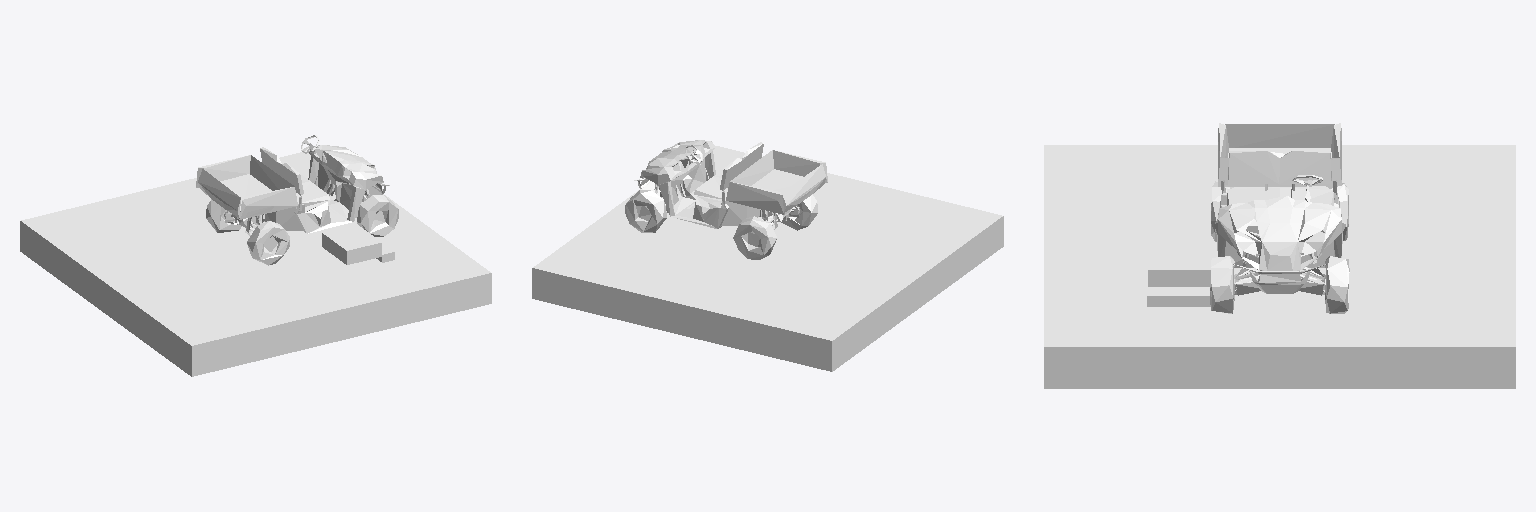
robot.urdf — polaris:
<robot name="polaris">
  <link name="base_link">
    <visual>
      <origin xyz="0 0 0" rpy="0 0 0" />
      <geometry>
        <mesh filename="package://hpp-rbprm-corba/meshes/polaris_reduced.stl"/>
      </geometry>
      <material name="white">
        <color rgba="1 1 1 1"/>
      </material>
    </visual>
    <collision>
      <origin xyz="0 0 0" rpy="0 0 0" />
      <geometry>
        <mesh filename="package://hpp-rbprm-corba/meshes/polaris_reduced.stl"/>
      </geometry>
    </collision>
  </link>
</robot>

--- What the picture shows (computed from the rendered views, not written in the file) ---
Views: 3 orthographic renders of the robot side by side, from view 1: azimuth 30°, elevation 25°; view 2: azimuth 150°, elevation 25°; view 3: azimuth 270°, elevation 25°.
Robot: polaris — 1 links, 0 joints (none); root link base_link; default pose: every joint at zero.
Visible links, largest first — view 1: base_link; view 2: base_link; view 3: base_link.
Link boxes in pixels (x1,y1,x2,y2): base_link: (20, 135, 491, 376); base_link: (532, 140, 1003, 371); base_link: (1044, 123, 1515, 388).
Size in the robot's own frame: 5.05 by 5 by 1.89 metres.
Meshes: 1 distinct files referenced, 1 mesh visuals loaded (1 binary STL).